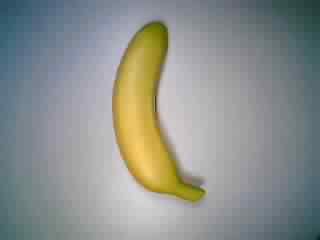banana: (110, 19, 210, 206)
